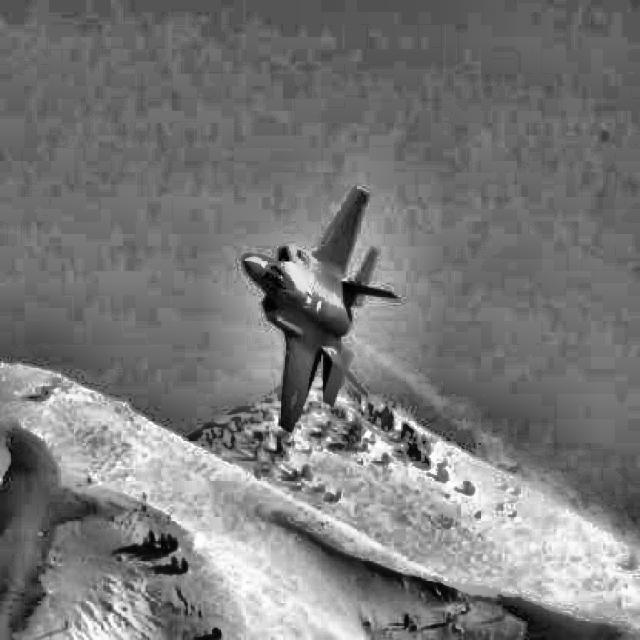F35: (242, 186, 400, 434)
